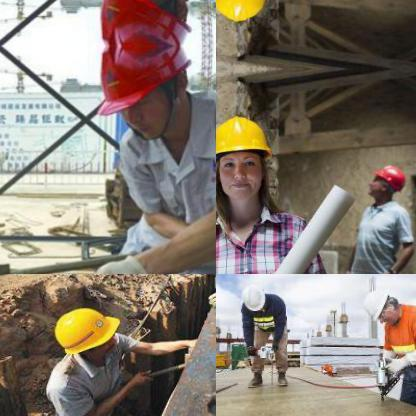Helmet: (84, 46, 196, 144), (216, 106, 277, 213), (84, 0, 199, 46), (52, 304, 116, 360), (216, 0, 277, 30), (362, 285, 404, 325), (368, 160, 406, 198), (238, 278, 268, 312)
